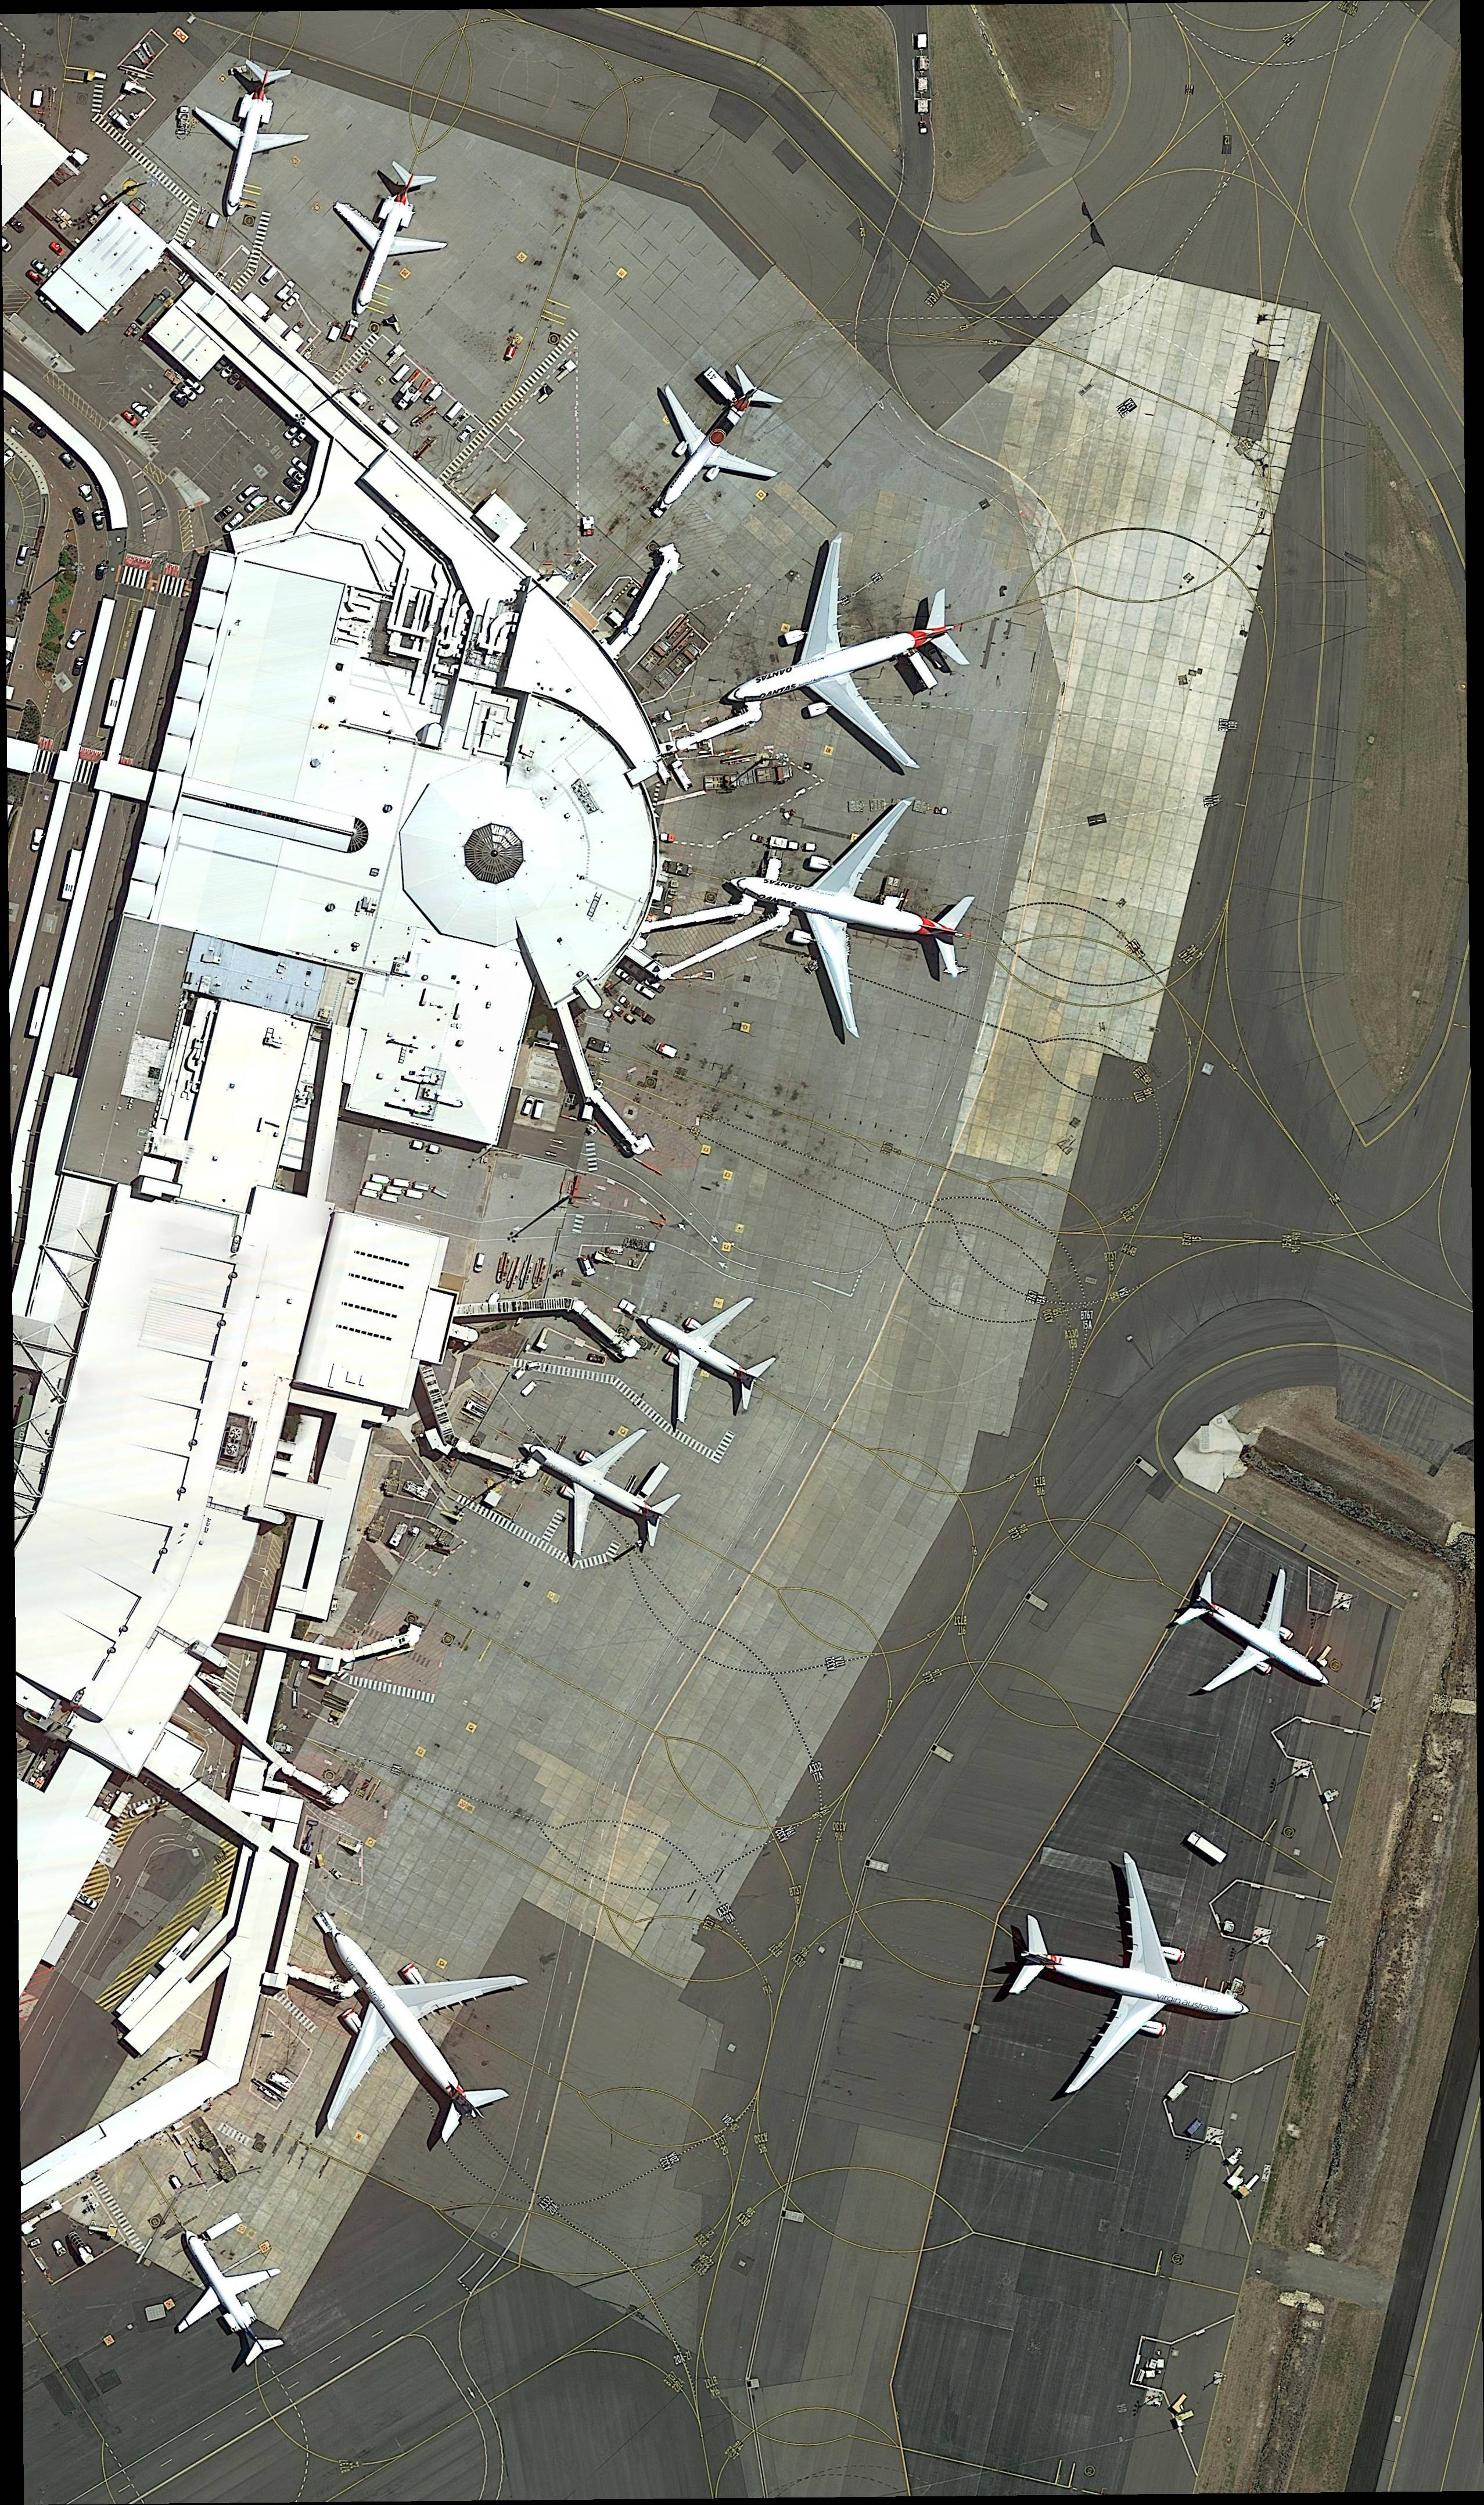large vehicle: (28, 986, 51, 1038), (62, 848, 82, 900)
plane: (240, 1856, 573, 2196), (973, 1830, 1268, 2137), (699, 518, 999, 794), (706, 769, 993, 1051), (1144, 1534, 1369, 1746), (601, 339, 821, 554), (488, 1386, 699, 1588), (603, 1261, 799, 1454), (301, 148, 462, 331), (148, 2204, 307, 2384), (174, 54, 318, 228)
small vehicle: (243, 491, 267, 516), (222, 511, 246, 533), (74, 1890, 99, 1910), (168, 389, 191, 411), (389, 363, 411, 385), (258, 264, 279, 286), (177, 381, 198, 401), (120, 408, 142, 429), (281, 292, 301, 313), (275, 281, 296, 301), (213, 505, 234, 525), (184, 376, 206, 395), (634, 982, 656, 1000), (615, 967, 635, 986), (66, 628, 83, 651), (130, 400, 150, 419), (287, 467, 306, 487), (444, 402, 463, 422), (236, 485, 256, 504), (31, 257, 50, 277), (128, 1802, 150, 1819), (28, 421, 48, 439), (30, 828, 45, 852), (290, 430, 308, 449), (283, 423, 302, 441), (292, 456, 309, 476), (219, 361, 236, 381), (90, 509, 105, 531), (227, 369, 244, 387), (274, 495, 292, 513), (59, 453, 78, 469), (645, 978, 664, 994), (458, 425, 475, 443), (71, 506, 87, 525), (78, 483, 94, 502), (625, 961, 644, 977), (283, 478, 300, 494), (25, 270, 43, 286), (234, 375, 251, 392), (49, 241, 66, 257), (213, 356, 229, 373), (16, 544, 30, 565), (521, 1097, 534, 1115), (473, 1254, 486, 1273), (532, 1100, 544, 1119), (2, 449, 15, 466), (73, 658, 85, 676), (96, 564, 105, 581)
